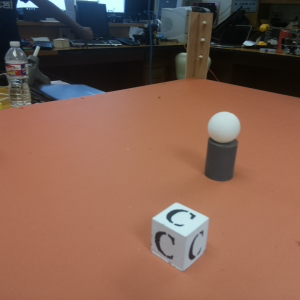blockC: (153, 205, 206, 267)
corner: (186, 12, 209, 79)
obstacle: (205, 111, 239, 180)
